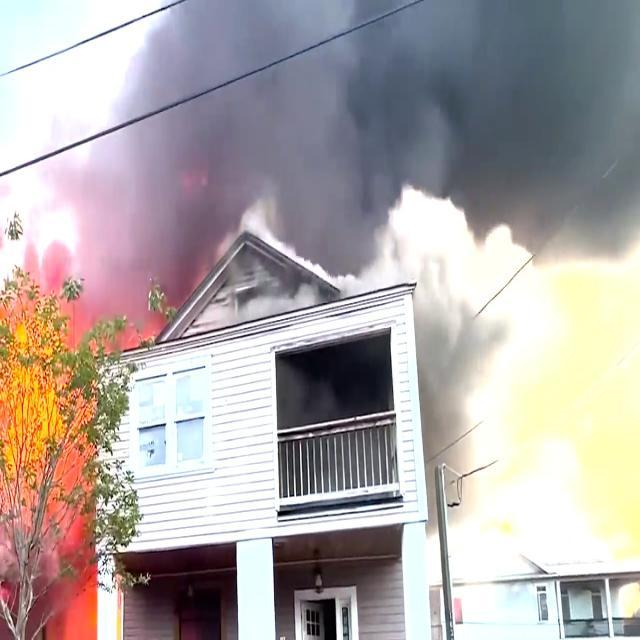Fire: (0, 272, 98, 640)
Smoke: (130, 7, 640, 209), (414, 211, 518, 519)
